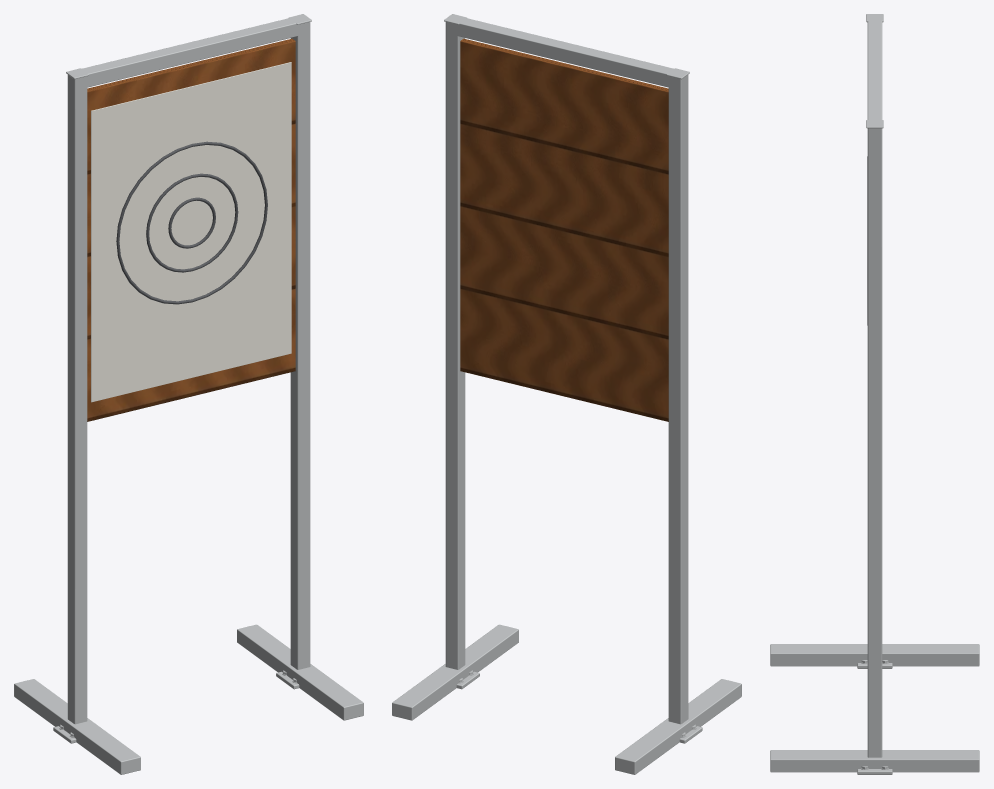
Rendered from fps-weapon-set-and-firing-range-paper-target-frame-89407822__19497.glb.
3 views of the same model, side by side, from view 1: azimuth 30°, elevation 25°; view 2: azimuth 150°, elevation 25°; view 3: azimuth 270°, elevation 25° (orthographic). The views are drawn at different scales.
Parts seen in each view (by area): view 1: paper-target-frame; view 2: paper-target-frame; view 3: paper-target-frame.
Part boxes in pixels (x1=…): paper-target-frame: x1=14, y1=14, x2=363, y2=774; paper-target-frame: x1=392, y1=14, x2=741, y2=774; paper-target-frame: x1=770, y1=14, x2=979, y2=774.
Size of the model in its own units: 0.6841 by 1.7 by 0.5.
Materials: 4 (1 with a texture image).
